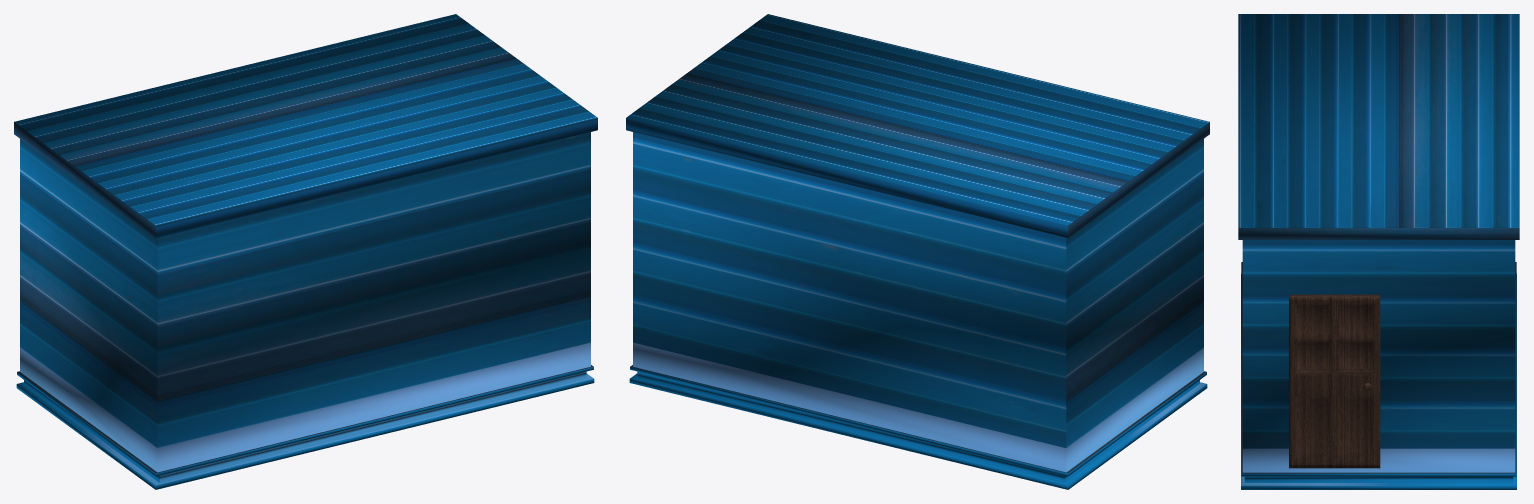
File: Shack.fbx
3 views of the same model, side by side, from view 1: azimuth 30°, elevation 25°; view 2: azimuth 150°, elevation 25°; view 3: azimuth 270°, elevation 25° (orthographic).
Visible parts, largest first — view 1: Cube; view 2: Cube; view 3: Cube, Cube.002.
Part boxes in pixels (x1=…): Cube: x1=14, y1=14, x2=597, y2=489; Cube: x1=626, y1=14, x2=1209, y2=489; Cube: x1=1238, y1=14, x2=1519, y2=489; Cube.002: x1=1289, y1=294, x2=1380, y2=468.
Size of the model in its own units: 754 by 428 by 415.
